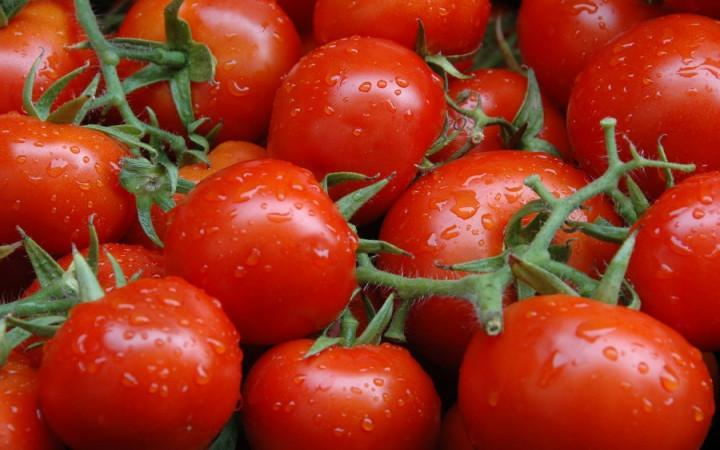healthy-tomato: (375, 144, 633, 365), (458, 296, 719, 450), (158, 160, 360, 348), (39, 276, 245, 450), (267, 36, 449, 219), (519, 1, 720, 128), (565, 14, 720, 173), (241, 340, 444, 450), (582, 15, 720, 169), (1, 116, 138, 261), (174, 1, 308, 148), (626, 171, 720, 357), (314, 1, 493, 78), (450, 70, 536, 150)
